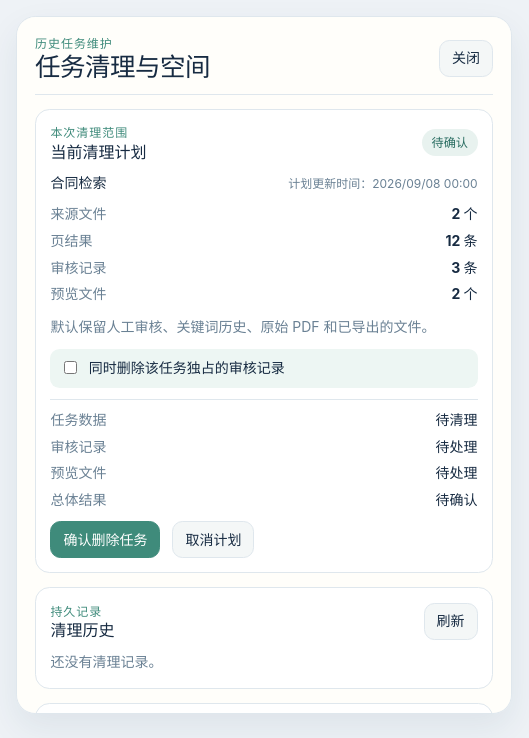
Test case: TaskCleanupPanel › resets the delete-review choice when the server plan changes
Later steps or results of the test are not shown.
Step 1. Click the checkbox labelled "同时删除该任务独占的审核记录" → (70, 368), box [64, 361, 77, 374]
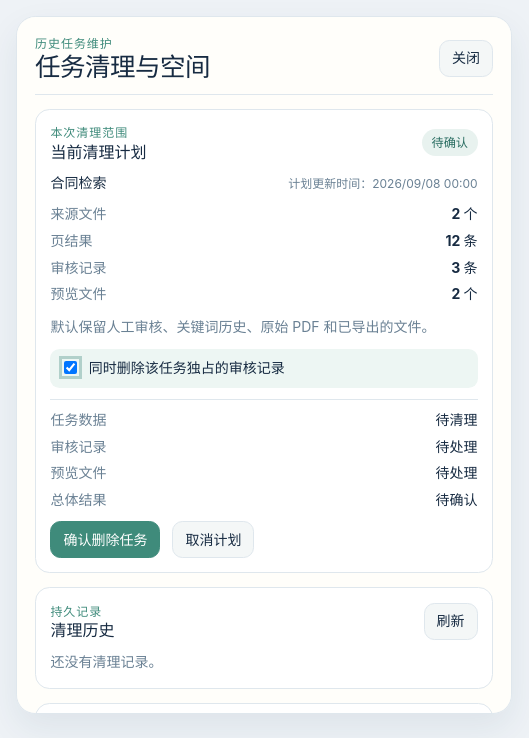
Result: the checkbox labelled "同时删除该任务独占的审核记录" is checked at [64, 361, 77, 374]
